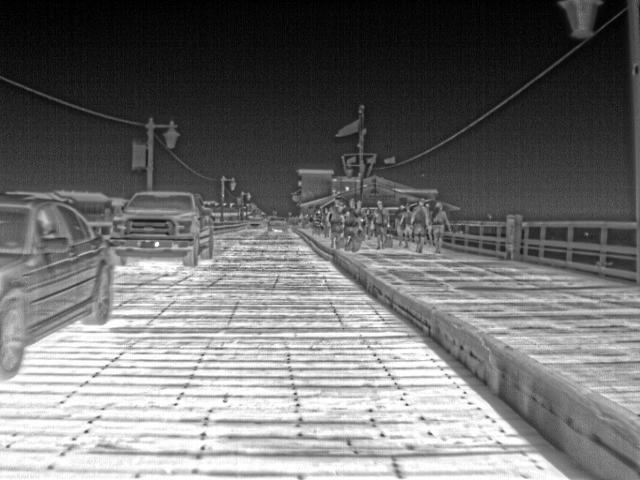car: (1, 191, 113, 382), (107, 190, 215, 268), (268, 214, 290, 232), (243, 214, 265, 232)
person: (410, 199, 431, 253), (341, 200, 364, 249), (431, 203, 451, 255), (371, 198, 391, 248), (329, 196, 347, 247), (394, 200, 410, 246), (309, 206, 325, 237)
